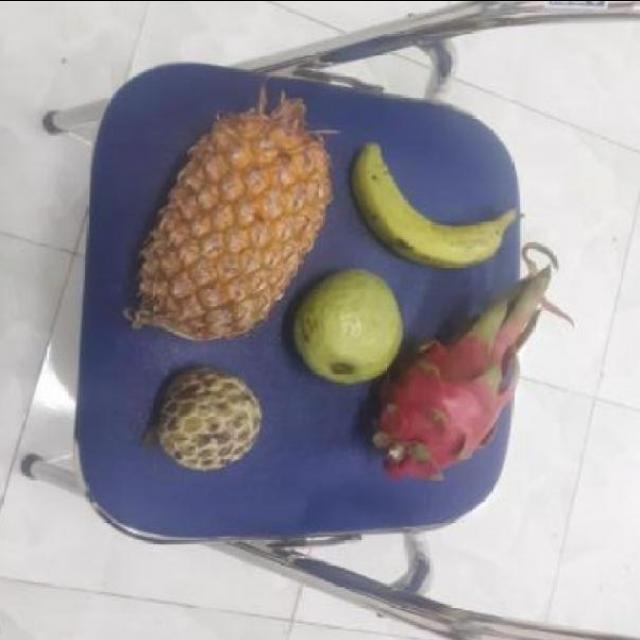banana: (348, 136, 514, 270)
dragon fruit: (368, 301, 522, 471)
guava: (287, 262, 405, 388)
pineapple: (128, 95, 334, 336)
sugar apple: (151, 364, 263, 472)
